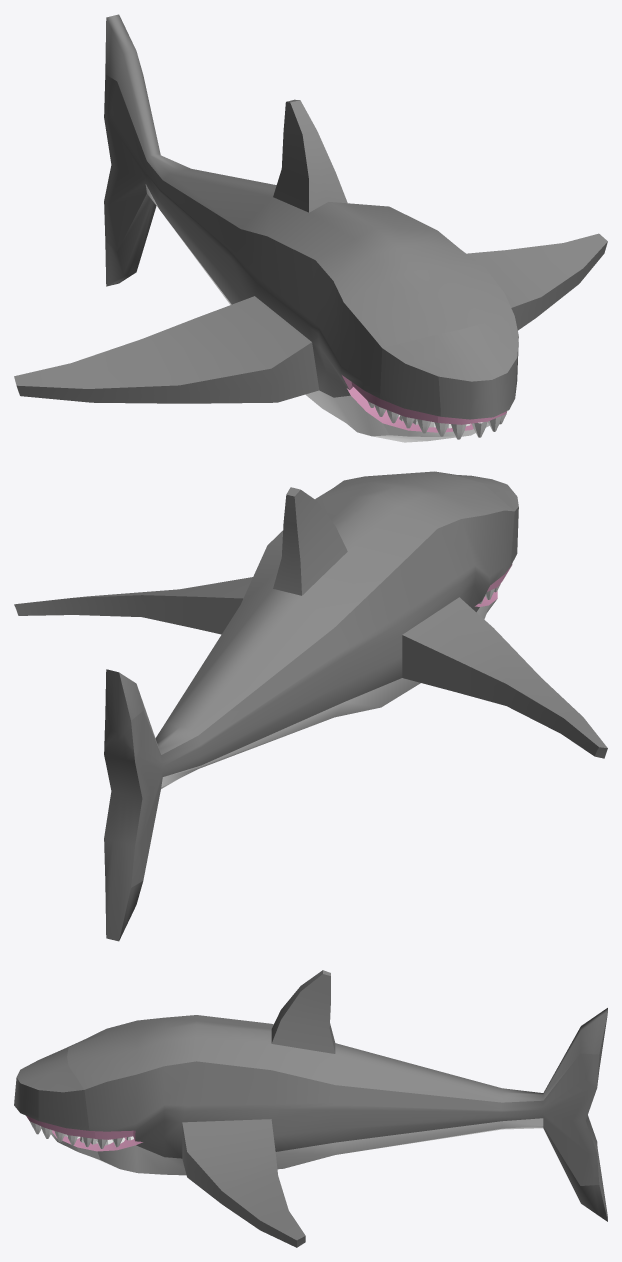
The model's file is shark.glb.
3 views of the same model, one above another, from view 1: azimuth 30°, elevation 25°; view 2: azimuth 150°, elevation 25°; view 3: azimuth 270°, elevation 25° (orthographic). The views are drawn at different scales.
Visible parts, largest first — view 1: base1; view 2: base1; view 3: base1.
Part boxes in pixels (bbox=[...]): base1: bbox=[14, 14, 607, 442]; base1: bbox=[14, 471, 607, 941]; base1: bbox=[14, 970, 607, 1247].
Size of the model in its own units: 2.34 by 1.2 by 2.61.
Materials: 1 (1 with a texture image).
